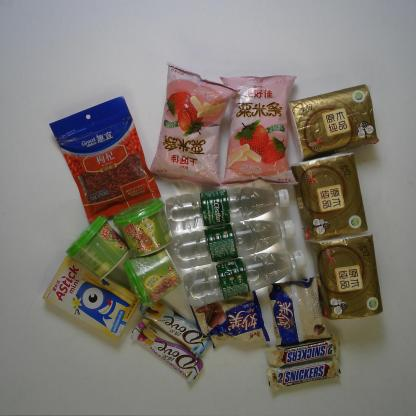Chocolate: (129, 318, 204, 385), (141, 293, 212, 359), (265, 334, 343, 370), (266, 356, 339, 392)
Dessert: (43, 256, 142, 339), (265, 274, 335, 347), (189, 289, 271, 344)
Dried Fruit: (47, 96, 162, 224)
Drink: (182, 249, 305, 308), (166, 186, 290, 236), (173, 220, 296, 267)
Instant Drink: (66, 215, 130, 280), (123, 245, 183, 308), (114, 198, 173, 256)
Puffed Food: (148, 62, 240, 188), (219, 76, 298, 186)
Tissue: (290, 151, 368, 242), (288, 84, 378, 162), (315, 234, 384, 320)
